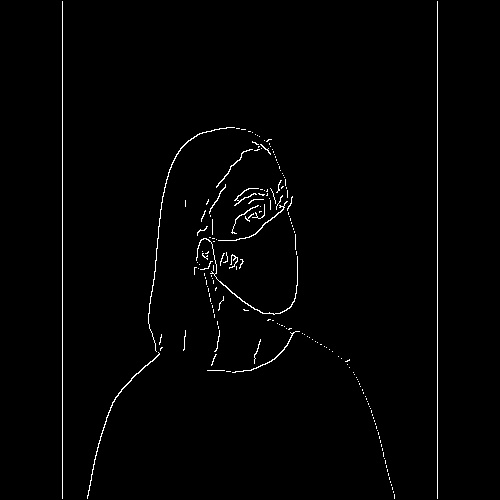mask: (194, 235, 329, 316)
